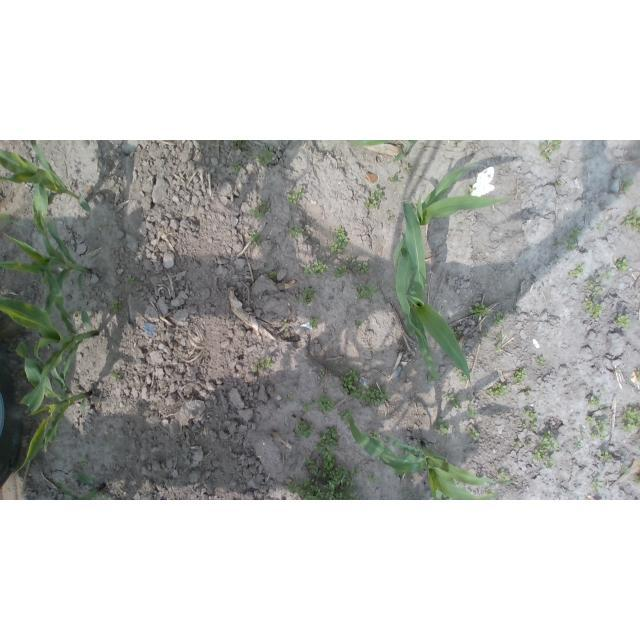Maize: (394, 164, 487, 345), (346, 418, 518, 500), (1, 269, 100, 411), (401, 200, 472, 381), (1, 183, 92, 321), (13, 340, 91, 479), (1, 140, 92, 238), (350, 140, 417, 164), (56, 470, 105, 500)
Weeds: (340, 367, 393, 406), (323, 464, 362, 500), (313, 427, 341, 469), (532, 430, 559, 460), (288, 477, 322, 500), (618, 406, 640, 433), (586, 272, 610, 296), (329, 226, 349, 253), (364, 186, 385, 211), (587, 417, 607, 440), (582, 298, 604, 318), (254, 146, 275, 166), (314, 393, 336, 412), (565, 228, 582, 252), (248, 201, 270, 219), (356, 284, 379, 301), (621, 209, 640, 229), (294, 419, 314, 437), (487, 383, 509, 399), (468, 300, 490, 316), (523, 408, 537, 431), (287, 188, 306, 204), (433, 418, 449, 437), (303, 455, 318, 475), (442, 394, 462, 408), (312, 260, 328, 277), (302, 287, 317, 305), (110, 299, 125, 317), (567, 264, 583, 280), (514, 368, 529, 384), (616, 314, 632, 329), (339, 409, 354, 424), (491, 312, 504, 329), (288, 225, 305, 238), (615, 258, 630, 272), (587, 395, 604, 407), (620, 180, 634, 194), (333, 264, 349, 276), (424, 373, 441, 384), (598, 452, 613, 464), (539, 141, 551, 156), (356, 262, 369, 275), (79, 453, 90, 468), (250, 230, 261, 244), (591, 480, 602, 493), (471, 427, 481, 441), (260, 357, 272, 368), (496, 472, 510, 481), (233, 141, 247, 150), (551, 141, 562, 152), (309, 317, 320, 328), (388, 172, 399, 183), (110, 371, 122, 381), (536, 356, 549, 365), (467, 407, 477, 417), (232, 162, 242, 172), (303, 264, 312, 275), (127, 276, 137, 285), (574, 440, 582, 451), (303, 403, 313, 411), (355, 320, 365, 328), (67, 310, 74, 321), (349, 258, 356, 269), (579, 429, 586, 440), (486, 487, 495, 495), (545, 460, 554, 468), (368, 476, 377, 484), (372, 432, 380, 441), (459, 375, 469, 382), (267, 271, 277, 278), (403, 165, 411, 173), (513, 441, 521, 449), (520, 422, 528, 430), (454, 329, 462, 337), (465, 188, 472, 197), (283, 395, 293, 401), (100, 493, 108, 500), (623, 467, 630, 475), (453, 367, 461, 374), (466, 395, 473, 403), (252, 364, 258, 373), (634, 475, 640, 484), (524, 390, 531, 397), (635, 367, 640, 376), (43, 214, 50, 220), (365, 430, 372, 436), (480, 333, 488, 338), (555, 238, 561, 244), (496, 333, 502, 339), (294, 295, 300, 301), (525, 440, 532, 445), (319, 372, 325, 377), (496, 345, 501, 351), (416, 439, 421, 445), (555, 182, 561, 187), (545, 158, 549, 162), (454, 140, 462, 142)
